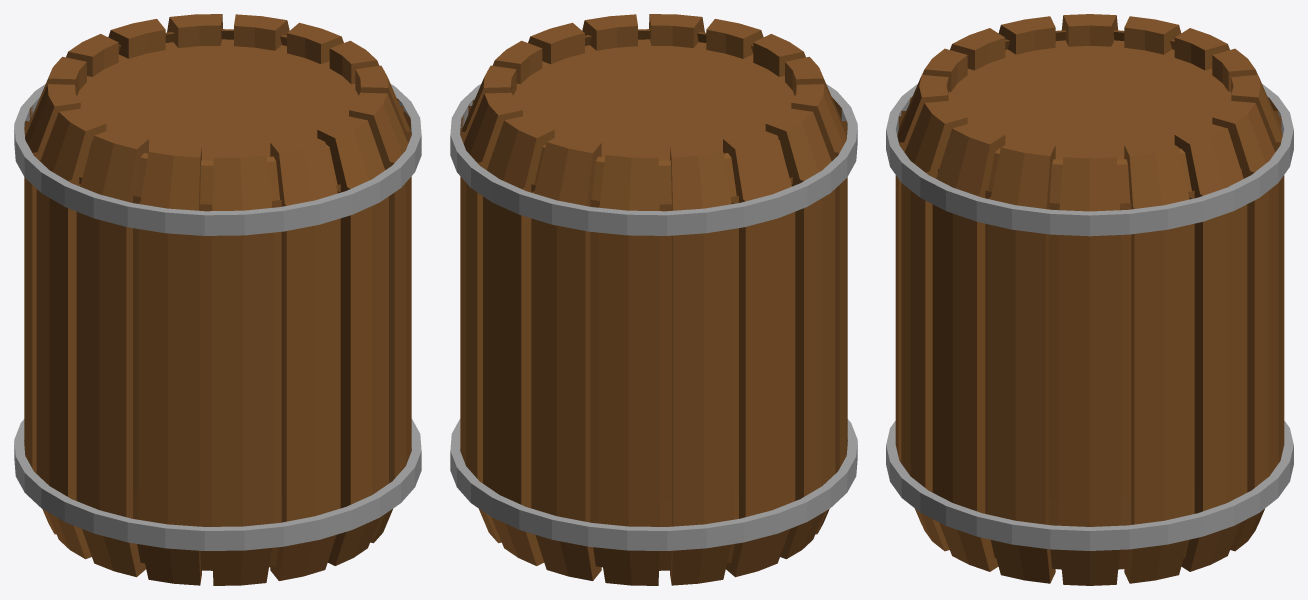
The model's file is barrel.fbx.
The picture shows the model from 3 angles, left to right: view 1: azimuth 30°, elevation 25°; view 2: azimuth 150°, elevation 25°; view 3: azimuth 270°, elevation 25°; orthographic projection.
Visible parts, largest first — view 1: Barrel; view 2: Barrel; view 3: Barrel.
Boxes of the visible parts, bbox=[...] form: Barrel: bbox=[14, 14, 421, 585]; Barrel: bbox=[450, 14, 857, 585]; Barrel: bbox=[886, 14, 1293, 585].
Bounding box in the file's own units: 292 × 337 × 292.
